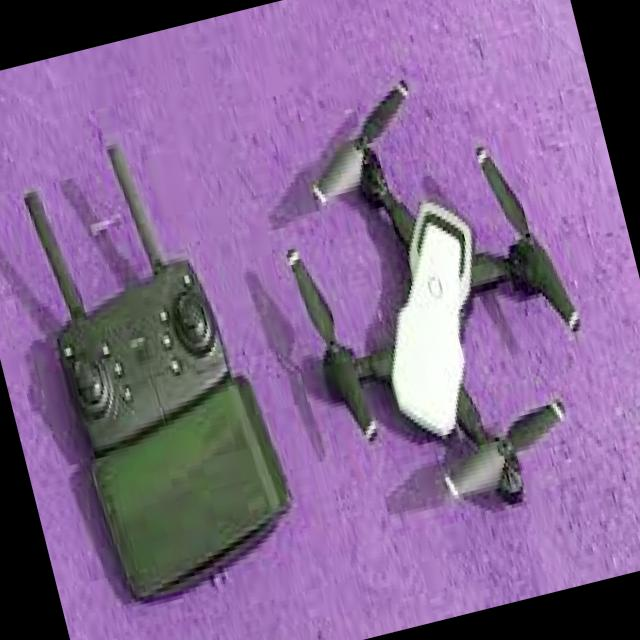drone: (229, 36, 640, 553)
